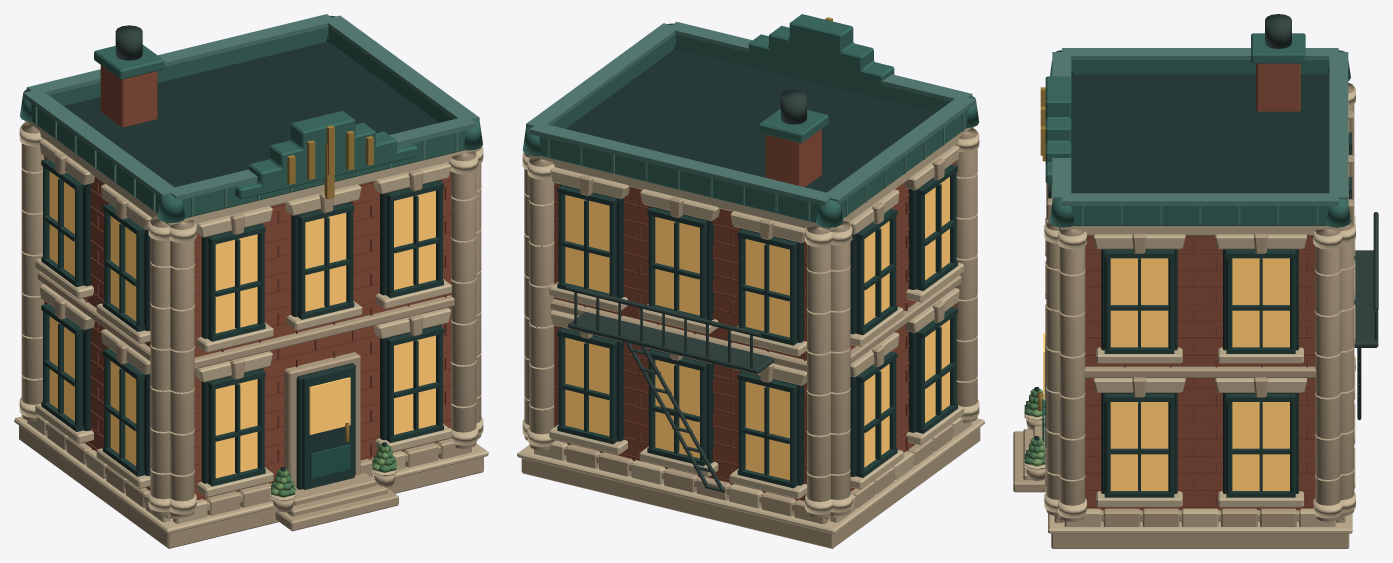
The picture shows the model from 3 angles, left to right: view 1: azimuth 30°, elevation 25°; view 2: azimuth 150°, elevation 25°; view 3: azimuth 270°, elevation 25°; orthographic projection.
Visible parts, largest first — view 1: expansion_villa_2_geometry; view 2: expansion_villa_2_geometry; view 3: expansion_villa_2_geometry.
Part boxes in pixels (x1,y1,x2,y2): expansion_villa_2_geometry: (14, 14, 488, 548); expansion_villa_2_geometry: (517, 14, 984, 548); expansion_villa_2_geometry: (1013, 14, 1378, 548).
Bounding box in the file's own units: 0.9633 × 1.16 × 0.9294.
